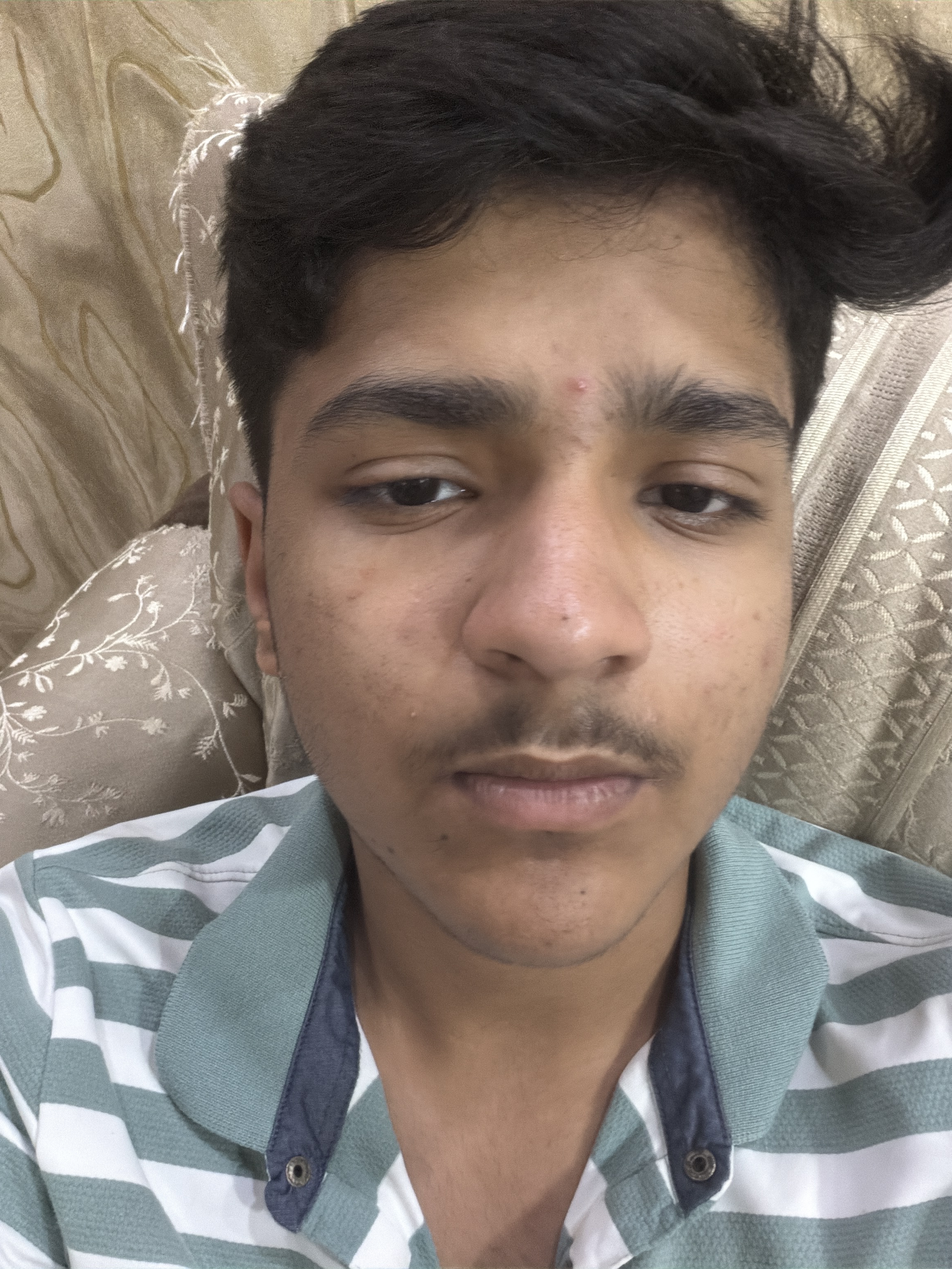closed_comedone: (397, 709, 424, 724)
pustule: (566, 370, 599, 402)
